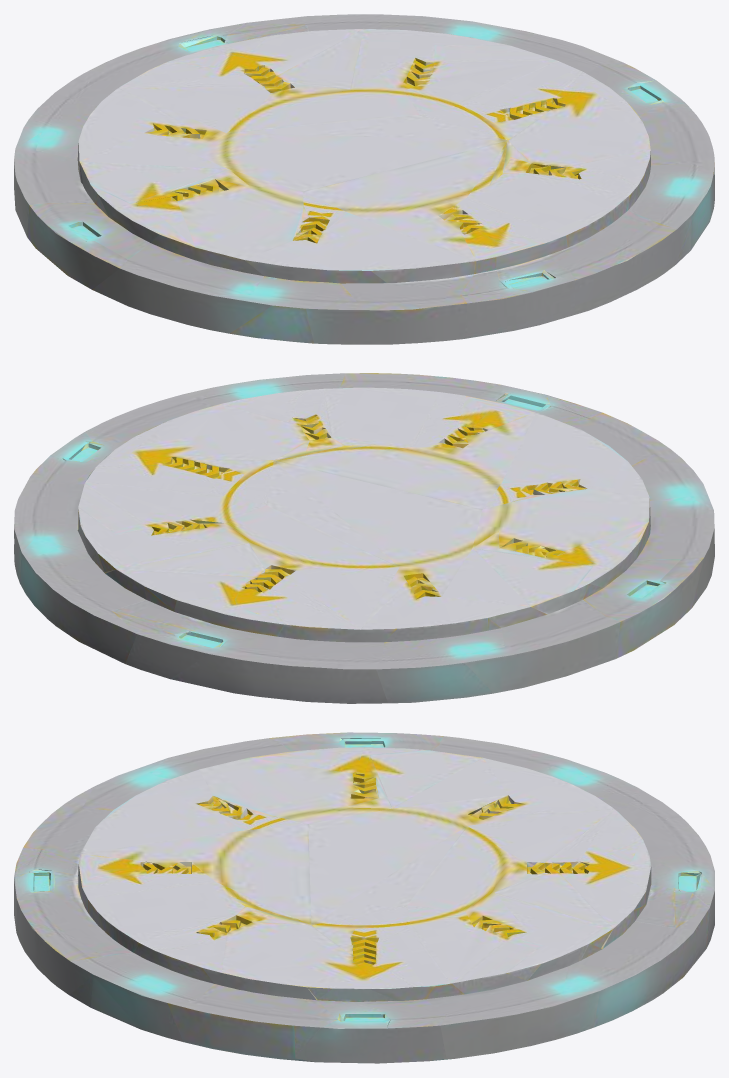
File: pad.glb
3 renders of one model, top to bottom at view 1: azimuth 30°, elevation 25°; view 2: azimuth 150°, elevation 25°; view 3: azimuth 270°, elevation 25°, orthographic.
Size of the model in its own units: 1.9 by 0.1446 by 1.9.
Materials: 1 (1 with a texture image).
